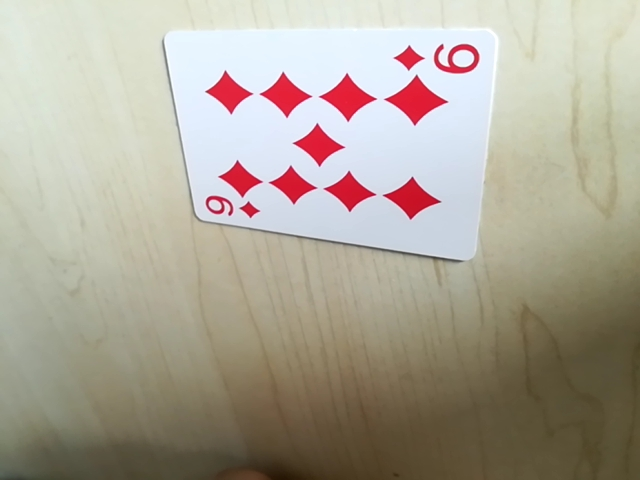fk 9: (393, 33, 485, 80), (200, 192, 262, 226)
